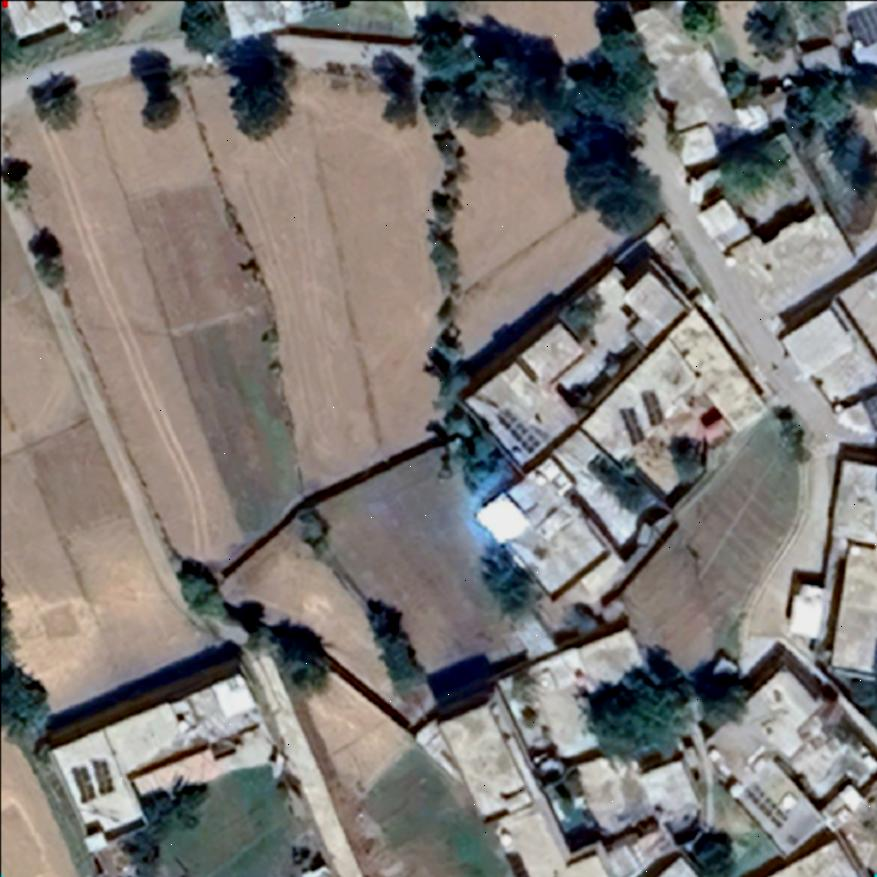Solarpanel: (470, 487, 538, 547), (488, 401, 538, 459), (845, 2, 877, 46), (67, 761, 95, 805), (618, 406, 644, 446), (88, 756, 114, 796), (638, 390, 664, 426), (861, 392, 877, 432)
